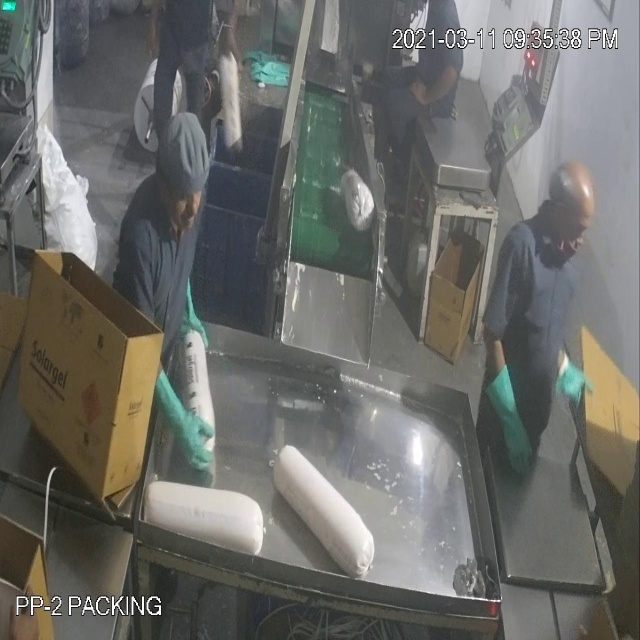Guantes: (148, 353, 221, 482), (489, 361, 541, 498)
Sin_guantes: (400, 56, 464, 114), (136, 4, 167, 66)
